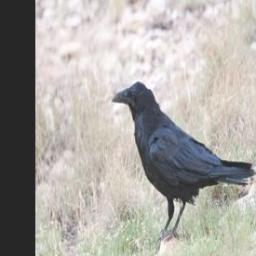Crow: (110, 80, 256, 248)
